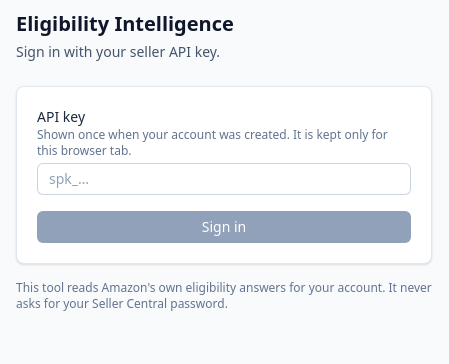
Test case: LoginPage › explains an unreachable server instead of claiming the key is wrong
In the password field labelled "API key": x=224, y=179 [37, 163, 411, 195], type "spk_a_real_looking_key"
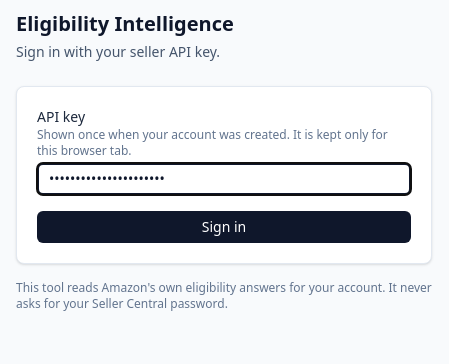
Click the button "Sign in": x=224, y=227 [37, 211, 411, 243]
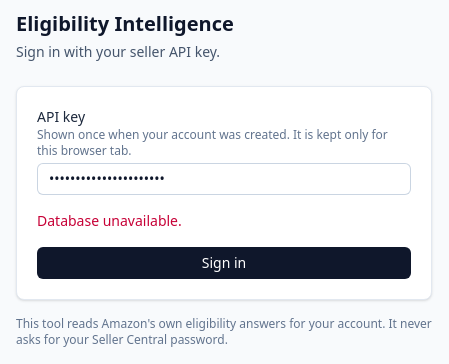
expect the message does not show "not accepted": met, box [37, 211, 182, 230]
expect the message reads "Database unavailable.": met, box [37, 211, 182, 230]
